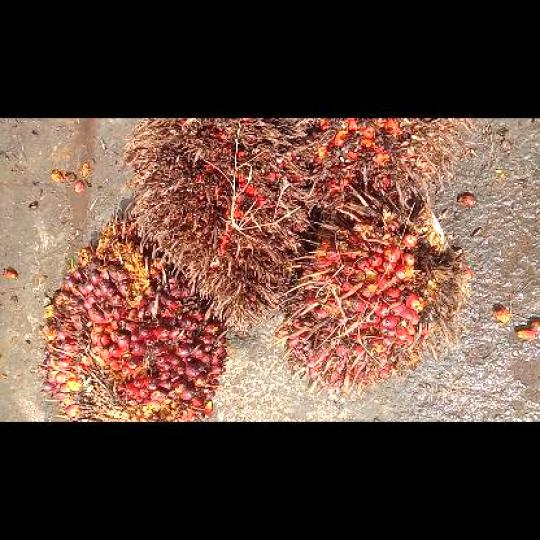masak: (38, 208, 234, 420), (273, 186, 467, 398)
terlalu masak: (118, 118, 313, 334), (301, 118, 473, 219)
